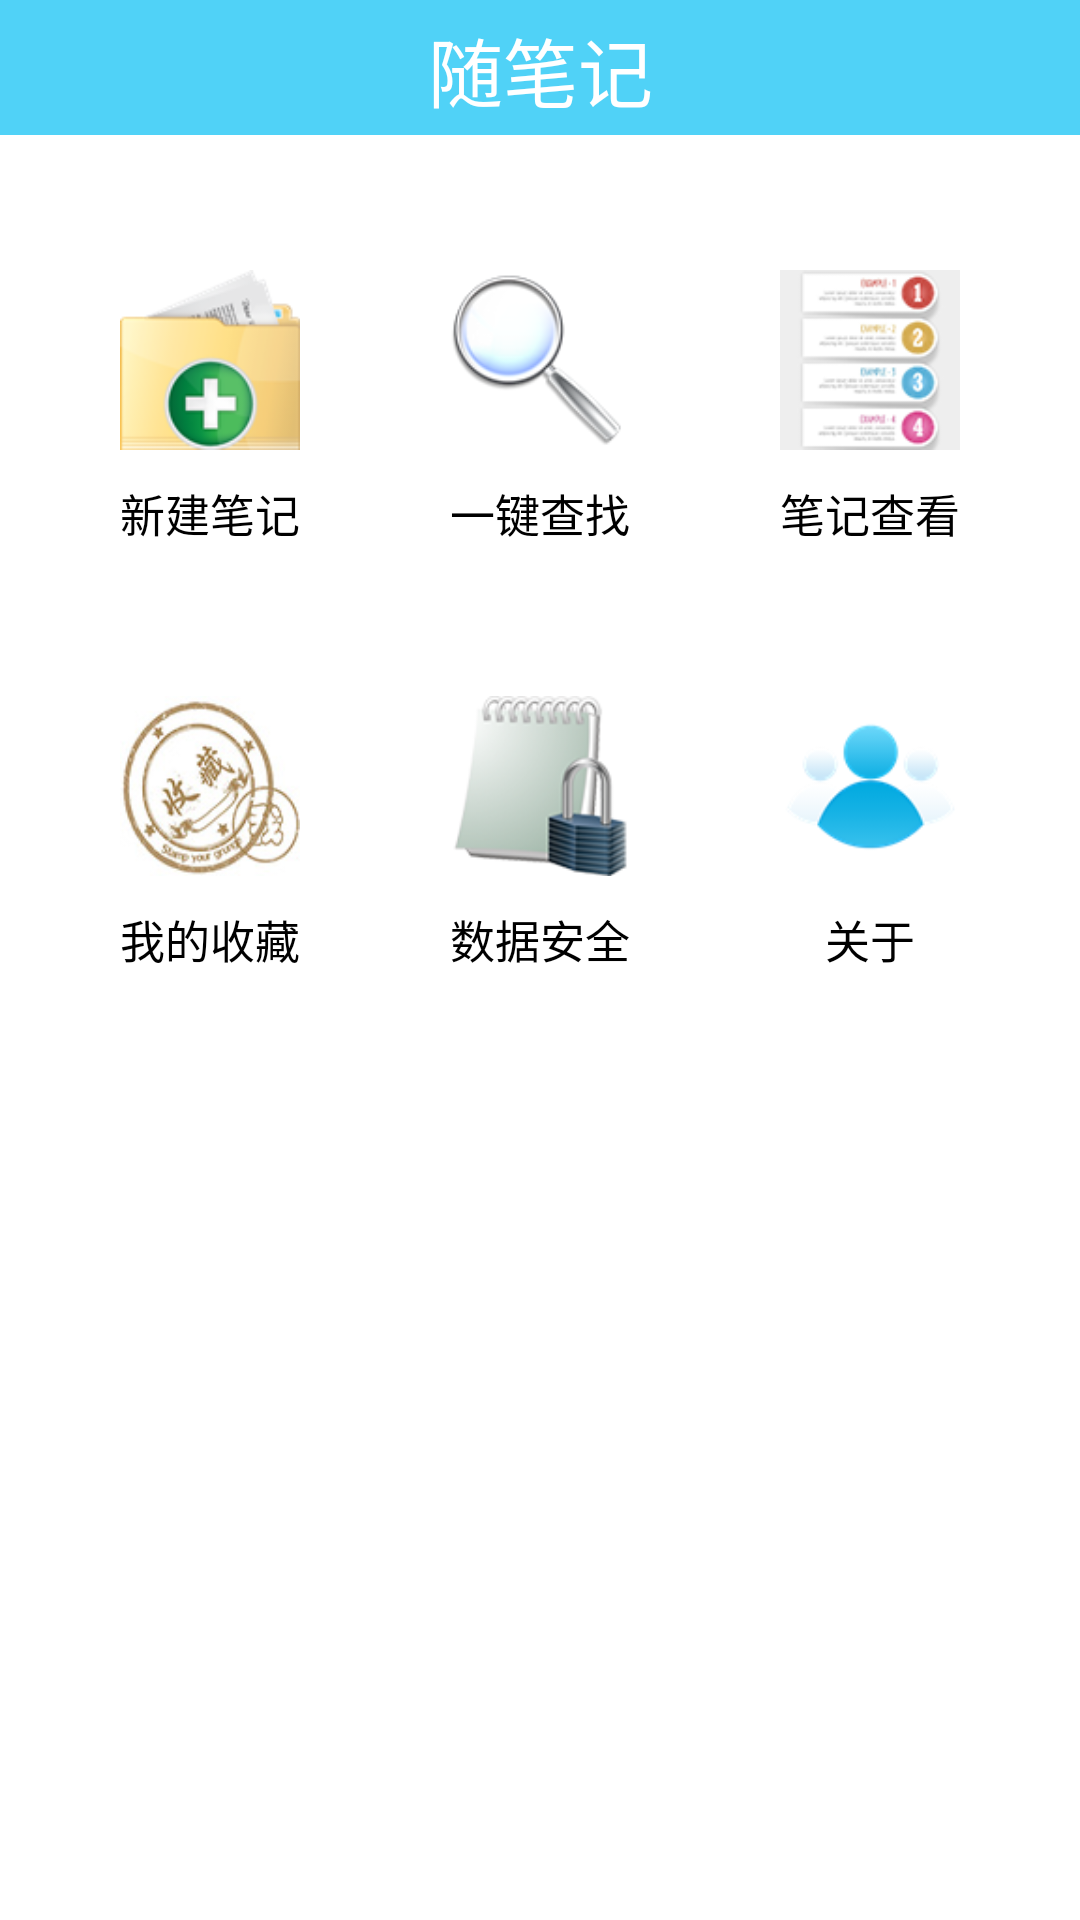

Icon bounding boxes for this 1080*1920 phone screenshot, format (x1, y1, x2, y2):
content: (801, 272, 940, 450)
